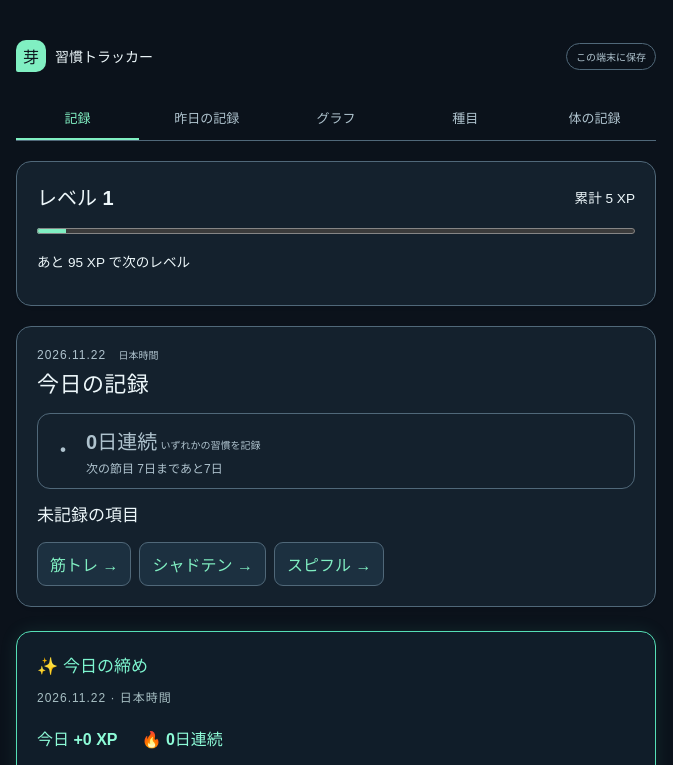
Scenario: body tab › keeps body measurements off the home screen and out of habit data
Check: the text "71.3" is not shown
Click the button with test id "nav-stats" at coordinates (336, 118), box [274,96,398,140]
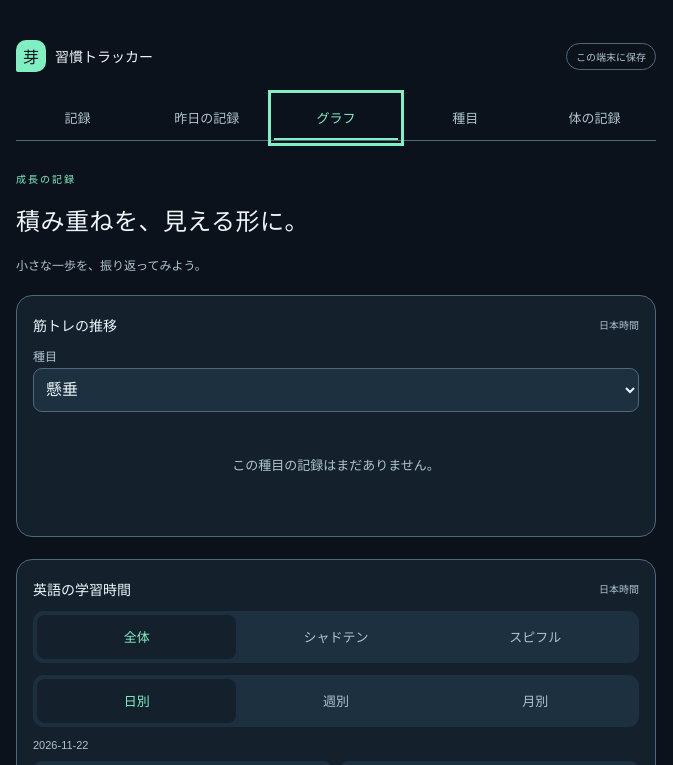
Check: the text "71.3" is not shown
Click the button with test id "nav-body" at coordinates (594, 118), box [533,96,656,140]
(page scrolled)
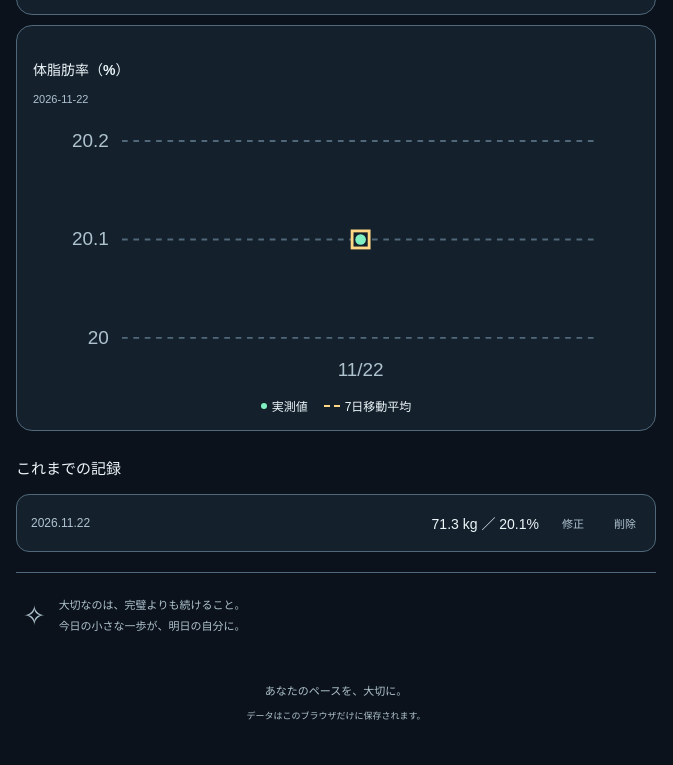
Check: the text "71.3 kg ／ 20.1%" is shown, box [432,516,539,532]
